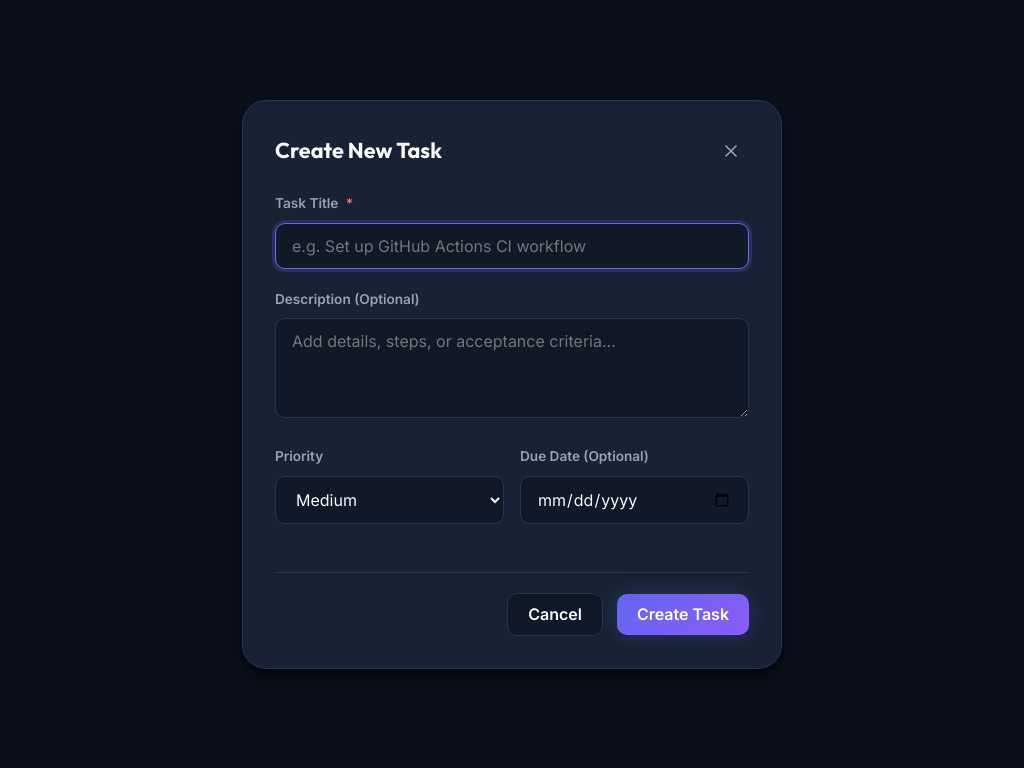
Test: TaskModal Component › validates title minimum length of 3 characters
In the field labelled "Task Title *": (512, 246) [275,223,749,269], type "AB"
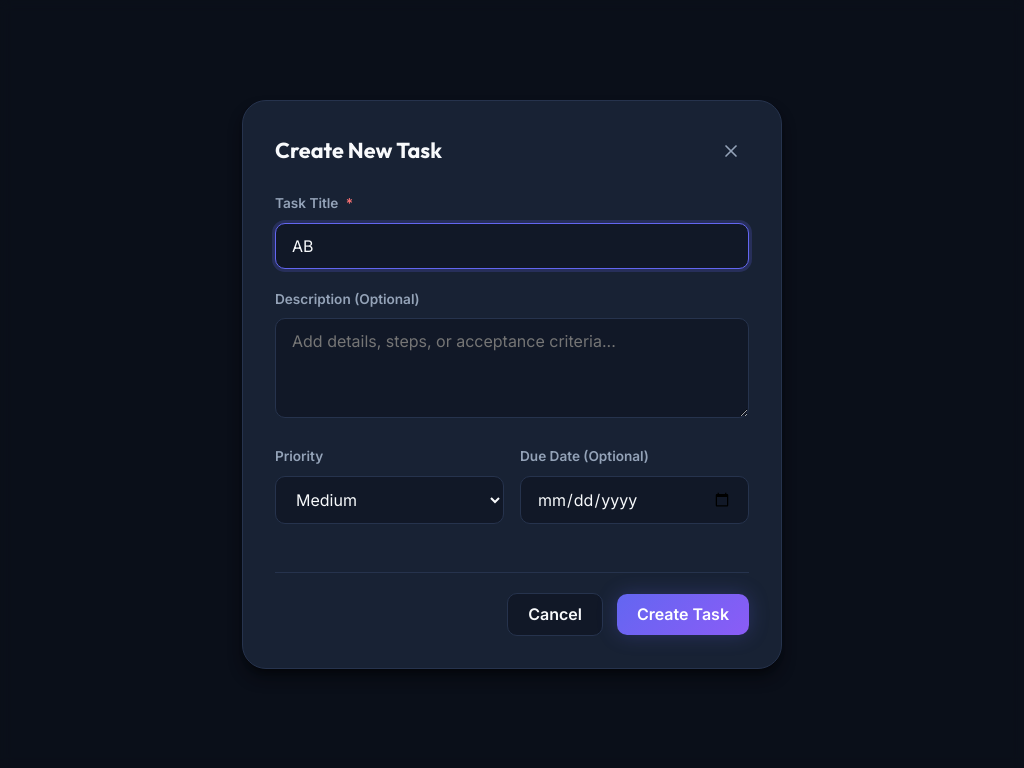
Click the button "Create Task": (683, 614) [617,594,749,634]
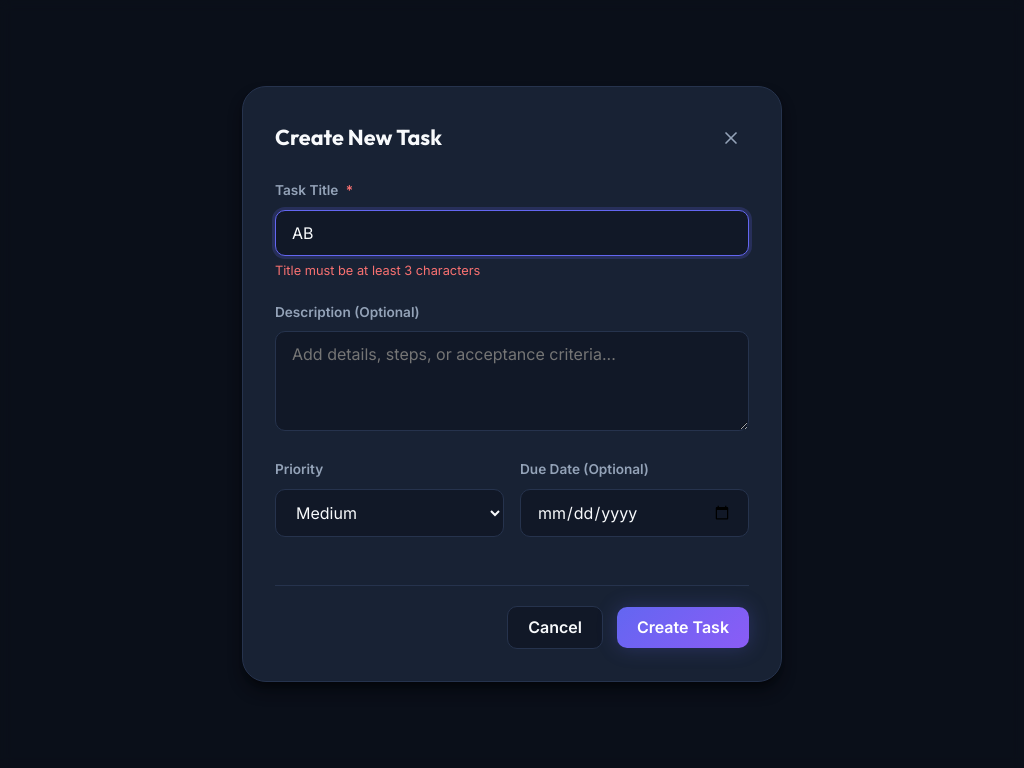
Result: the text "Title must be at least 3 characters" is shown at [275,263,480,278]
